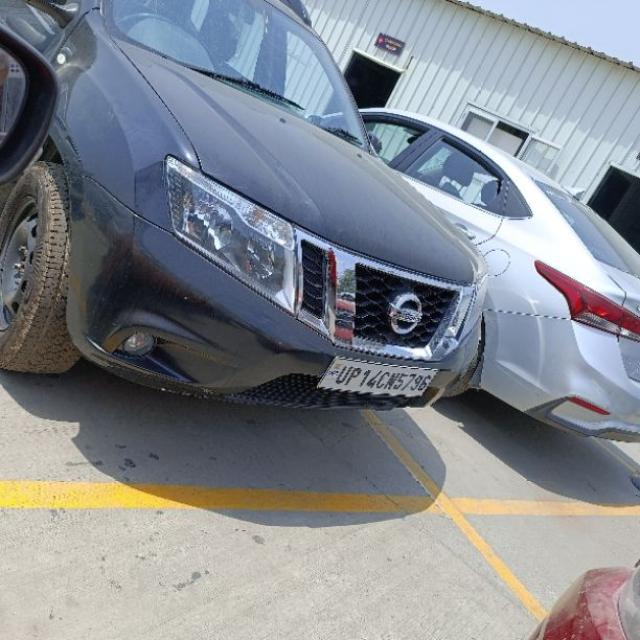license_plate: (315, 354, 440, 400)
